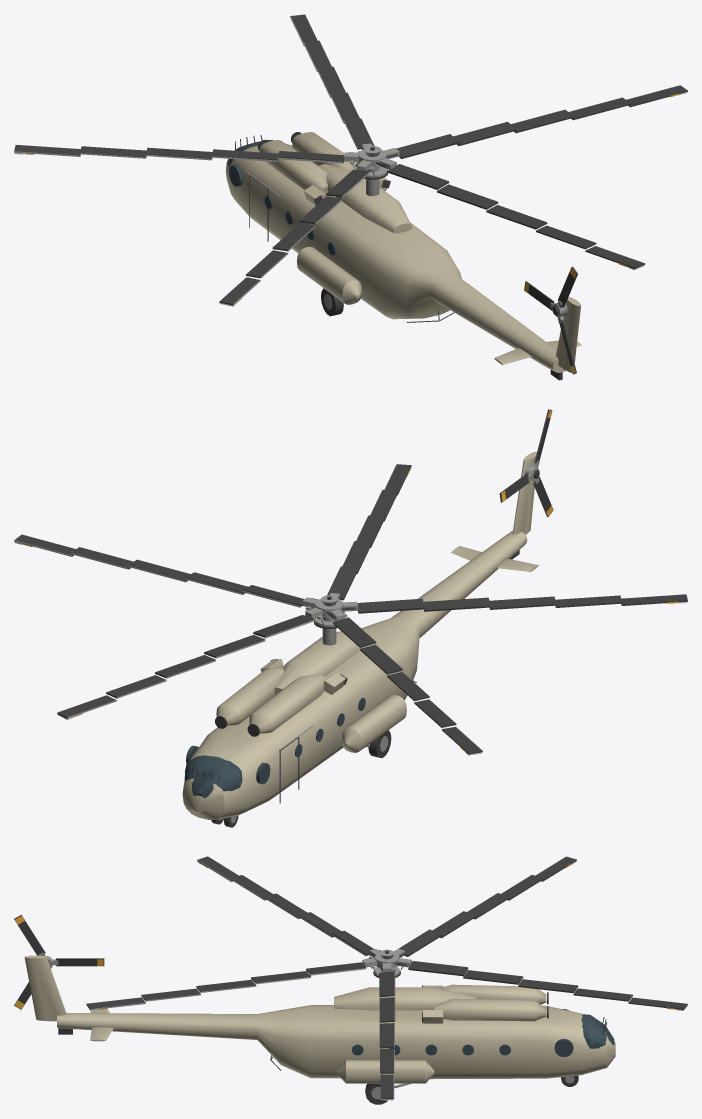
Rendered from rus_heli_mi17.glb.
3 views of the same model, one above another, from view 1: azimuth 30°, elevation 25°; view 2: azimuth 150°, elevation 25°; view 3: azimuth 270°, elevation 25° (orthographic). The views are drawn at different scales.
Visible parts, largest first — view 1: body, rotor, trotor; view 2: body, rotor, trotor; view 3: body, rotor, trotor.
Part boxes in pixels (<box>): body: <box>225,132,581,380</box>; rotor: <box>14,14,687,306</box>; trotor: <box>524,266,577,374</box>; body: <box>182,451,538,827</box>; rotor: <box>14,464,687,755</box>; trotor: <box>499,409,553,516</box>; body: <box>24,955,615,1104</box>; rotor: <box>86,856,687,1100</box>; trotor: <box>14,914,104,1009</box>.
Bounding box in the file's own units: 19.41 × 6.16 × 22.86.
